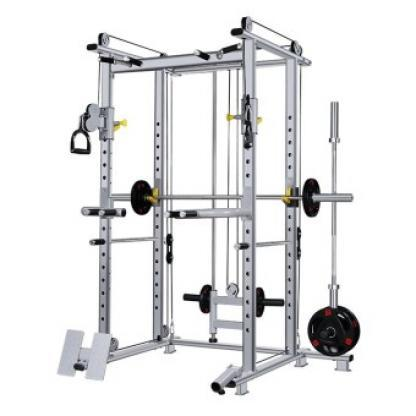smith machine: (55, 14, 359, 398)
